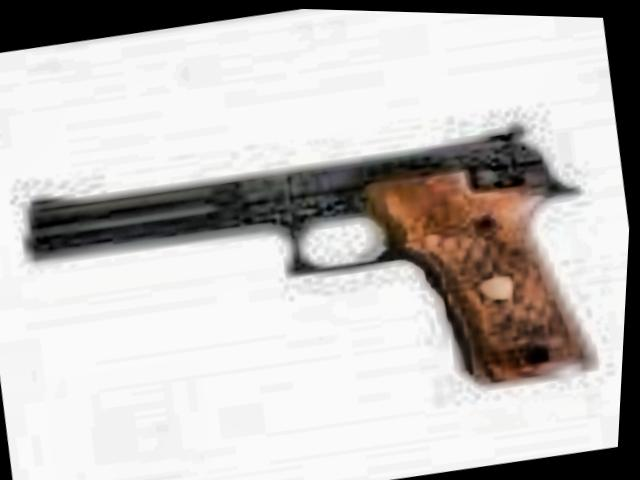pistol: (1, 99, 613, 470)
